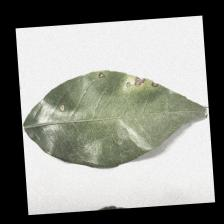canker: (51, 65, 165, 114)
